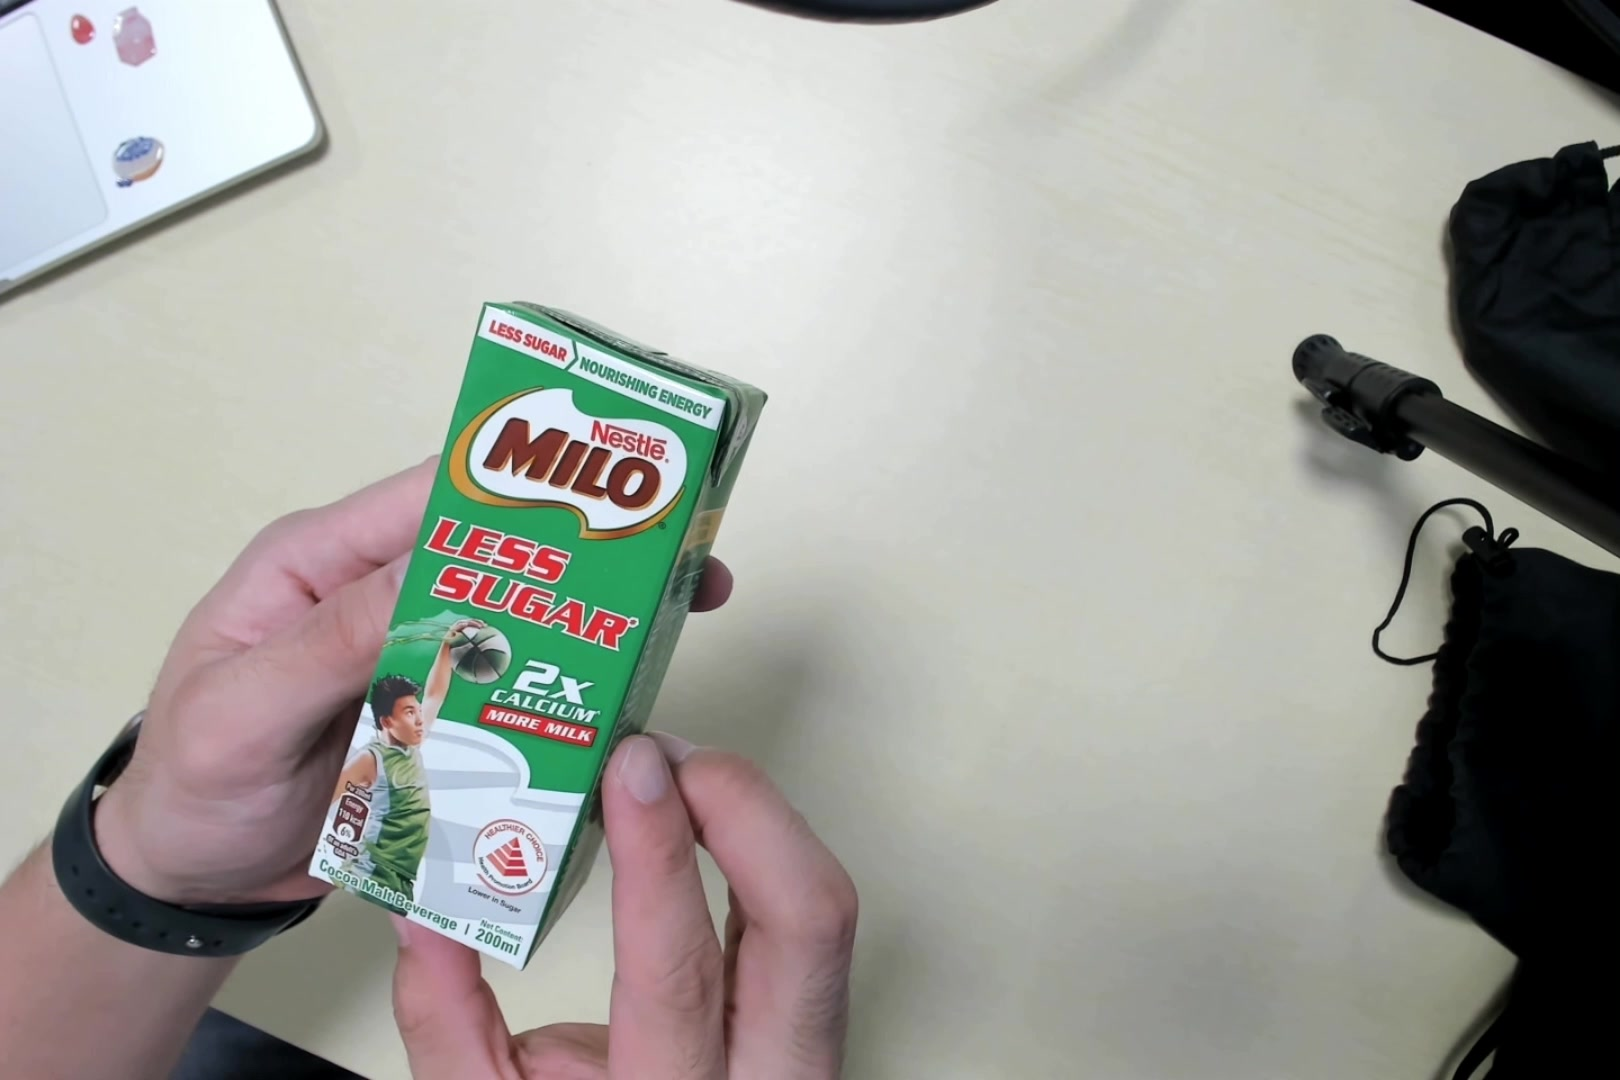SoftDrinksOtherReadyToDrink_100-199g_NonHalal_NonHealthy: (315, 299, 771, 975)
